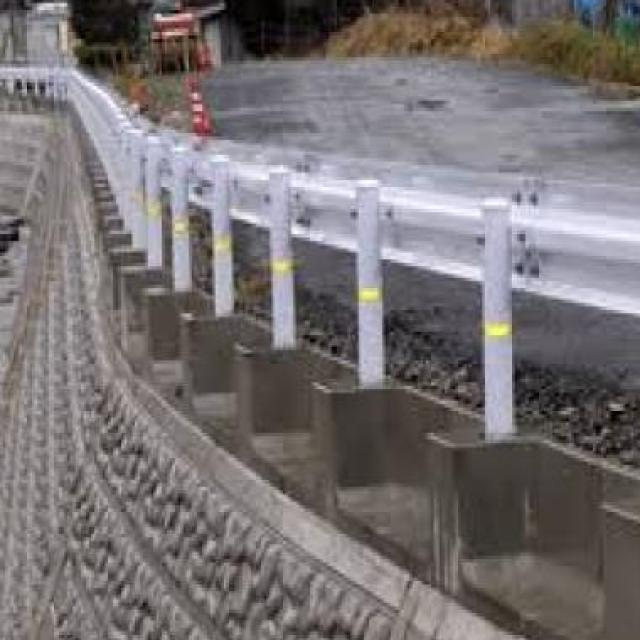Guard rail: (69, 59, 640, 461)
